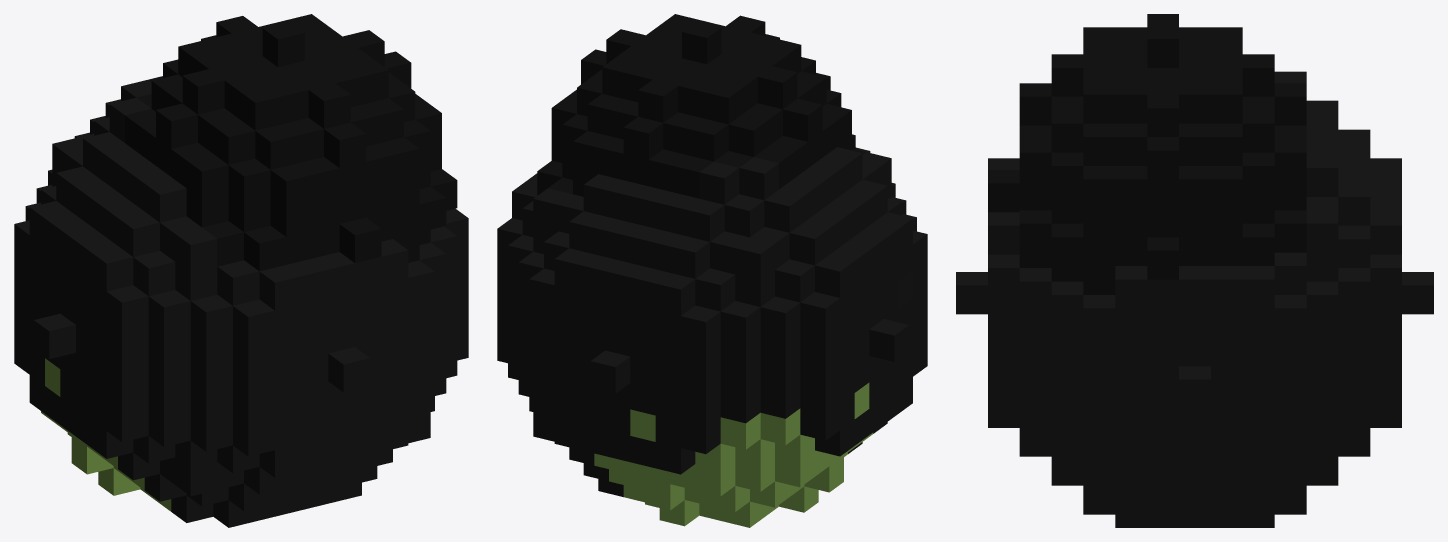
File: arbusto.obj
The picture shows the model from 3 angles, left to right: view 1: azimuth 30°, elevation 25°; view 2: azimuth 150°, elevation 25°; view 3: azimuth 270°, elevation 25°; orthographic projection. The views are drawn at different scales.
Size of the model in its own units: 1.5 by 1.6 by 1.5.
